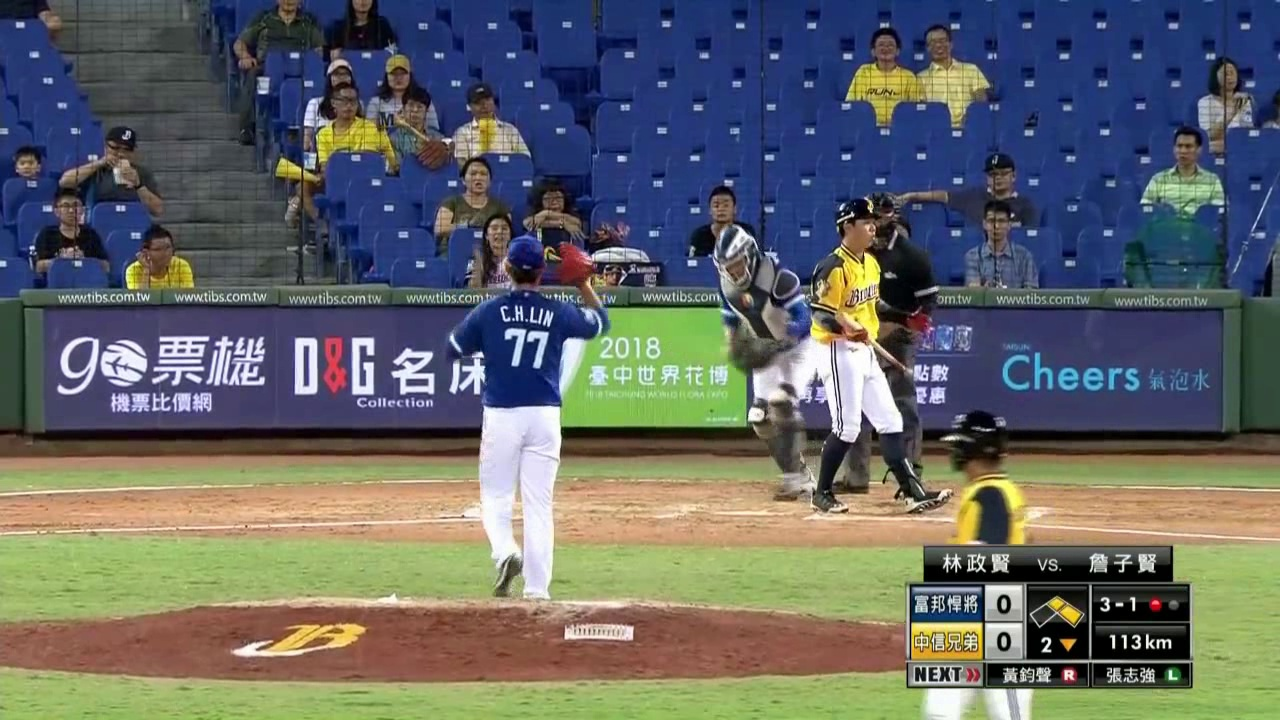base: (1029, 590, 1085, 629)
bat: (859, 331, 916, 377)
out: (1144, 587, 1186, 622)
score1: (986, 588, 1021, 620)
score2: (989, 625, 1023, 655)
session: (1028, 629, 1087, 658)
speed: (1100, 630, 1183, 657)
strikeball: (1096, 588, 1139, 624)
